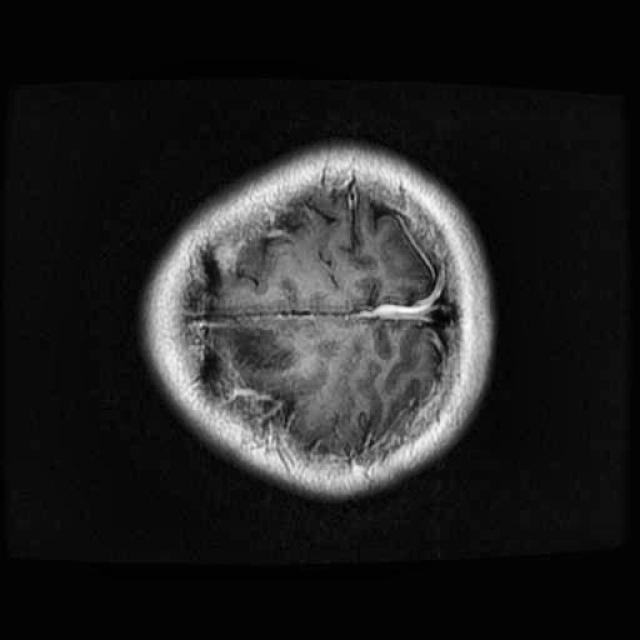Non-Tumor: (221, 315, 332, 425)
